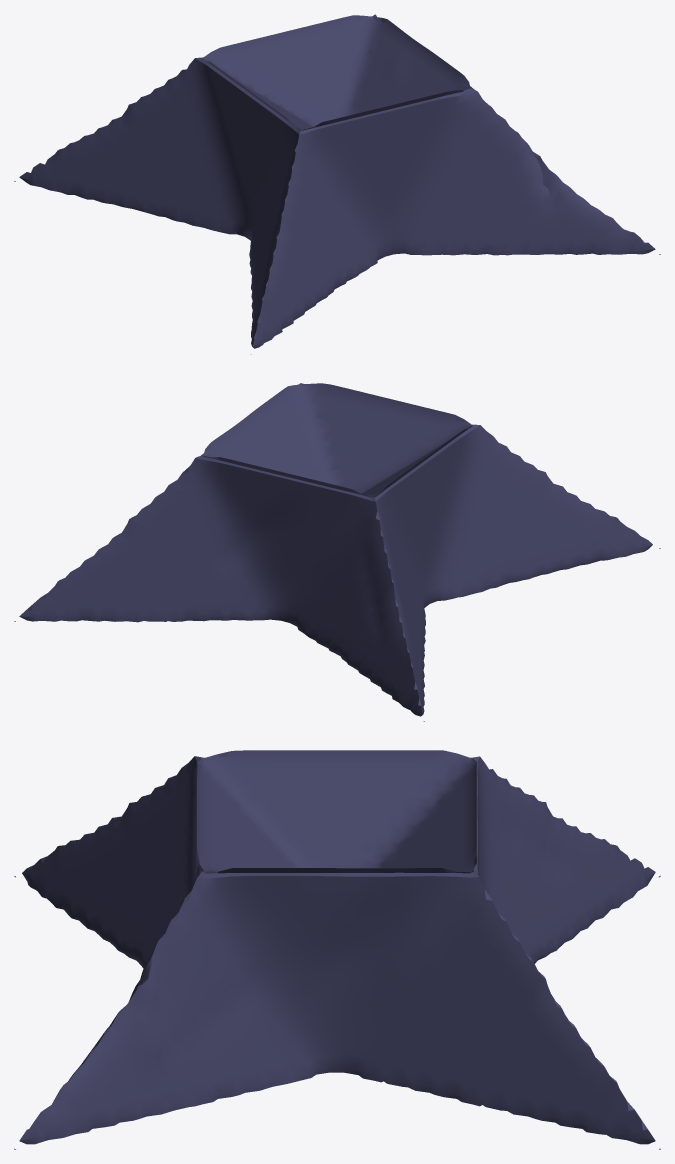
Rendered from GemHolder.fbx.
3 renders of one model, top to bottom at view 1: azimuth 30°, elevation 25°; view 2: azimuth 150°, elevation 25°; view 3: azimuth 270°, elevation 25°, orthographic. The views are drawn at different scales.
Visible parts, largest first — view 1: GemHolder; view 2: GemHolder; view 3: GemHolder.
Boxes of the visible parts, x1,y1,x2,y2 form: GemHolder: (14,14,660,354); GemHolder: (14,383,660,721); GemHolder: (14,750,660,1149).
Bounding box in the file's own units: 461 × 161 × 461.
